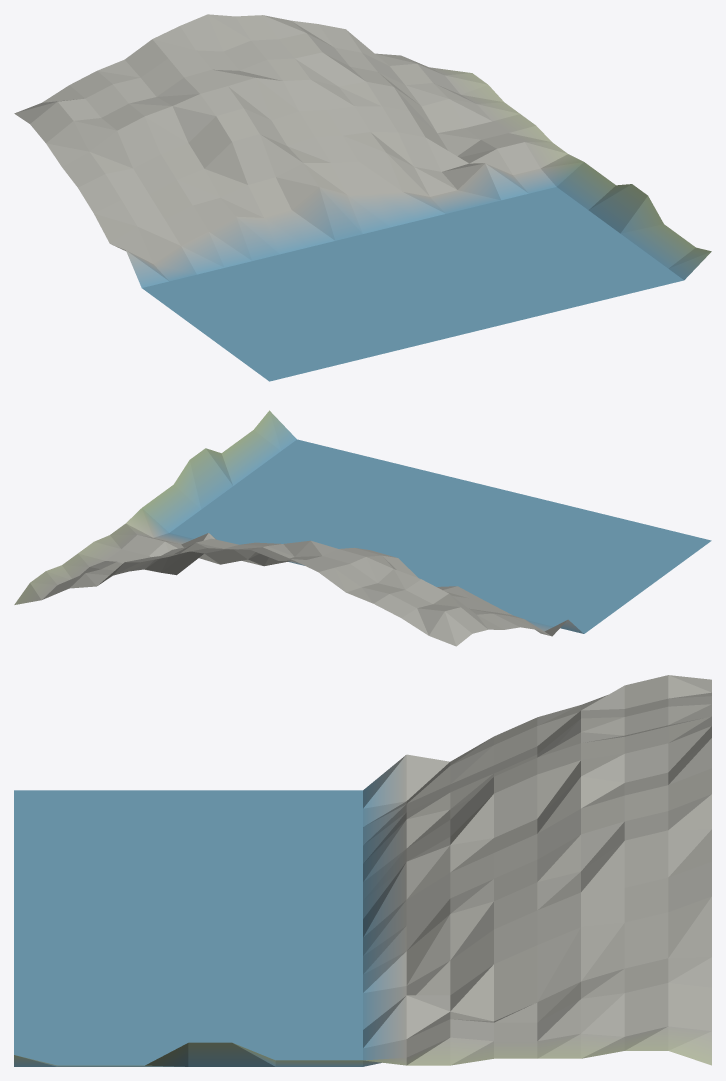
3 views of the same model, one above another, from view 1: azimuth 30°, elevation 25°; view 2: azimuth 150°, elevation 25°; view 3: azimuth 270°, elevation 25° (orthographic). The views are drawn at different scales.
Bounding box in the file's own units: 32 × 9.19 × 32.
